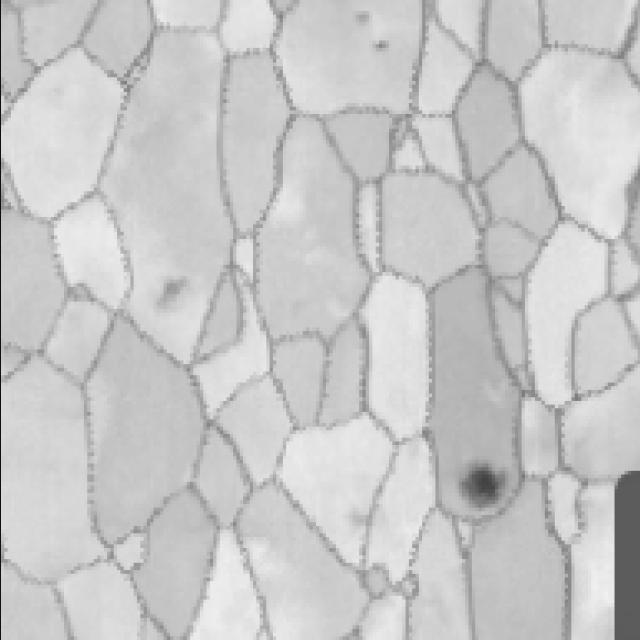good_void: (453, 449, 513, 509), (151, 274, 186, 320), (343, 508, 366, 535), (368, 37, 391, 53), (351, 10, 371, 26)
